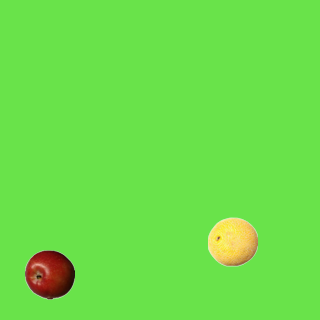Apple Braeburn: (24, 249, 74, 299)
Cantaloupe 1: (207, 216, 257, 266)
